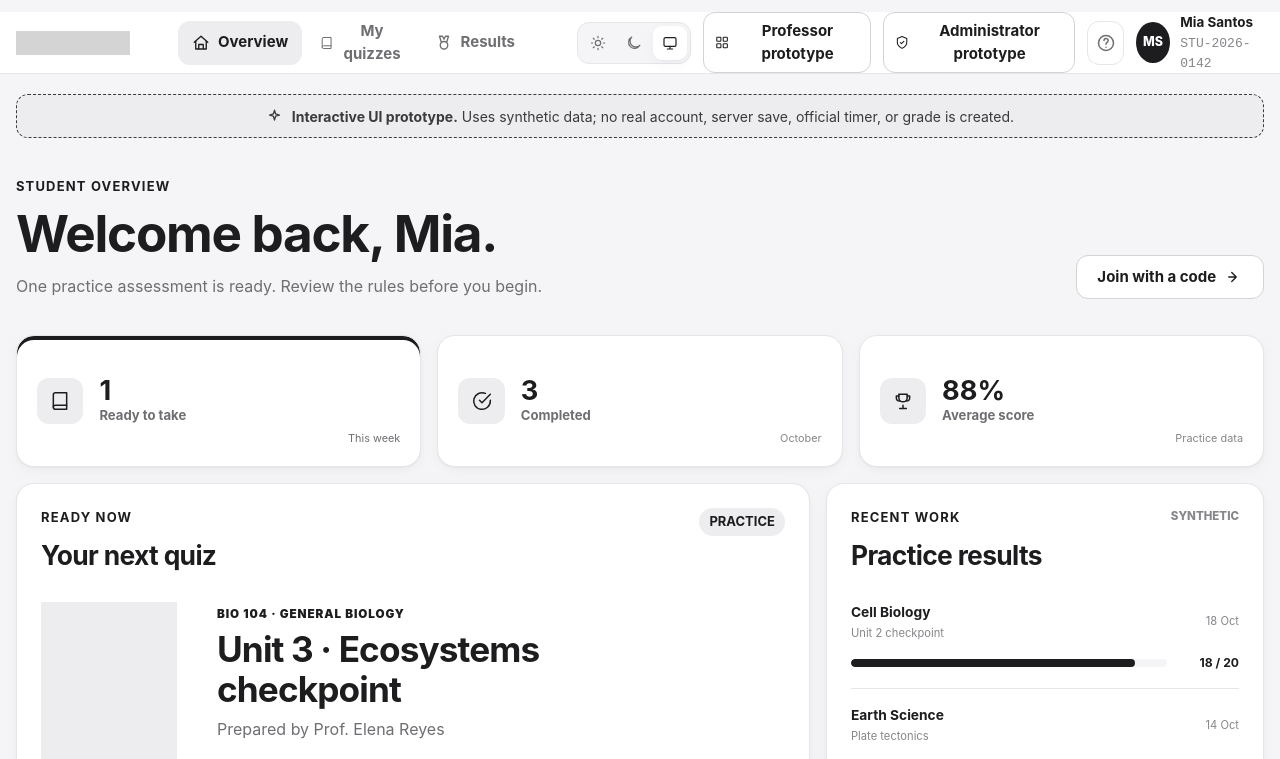
Test: MARKADO student prototype › rejects an unknown code and accepts the documented prototype code
Step 1. Click the button "Join with a code" → [1170, 277], box [1076,255,1264,299]
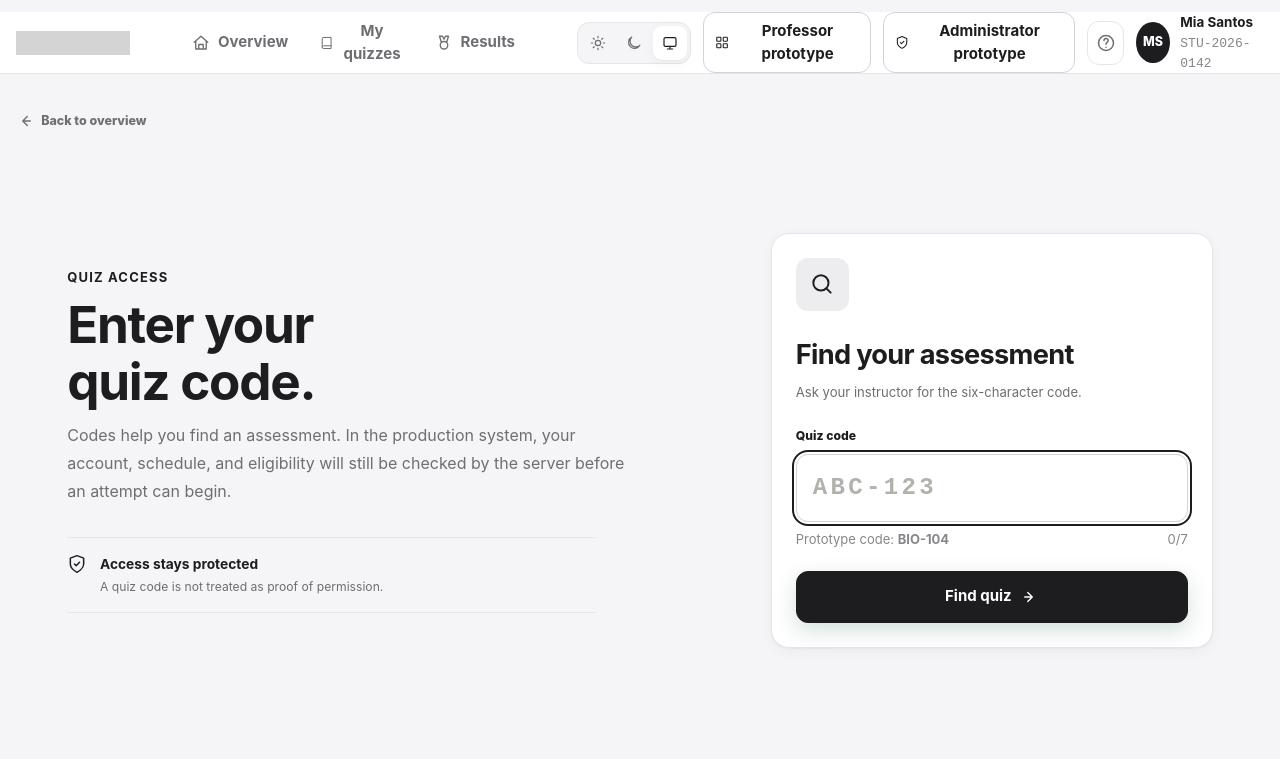
Step 2. Type "WRONG" into the field labelled "Quiz code" → [992, 488], box [796,454,1188,522]
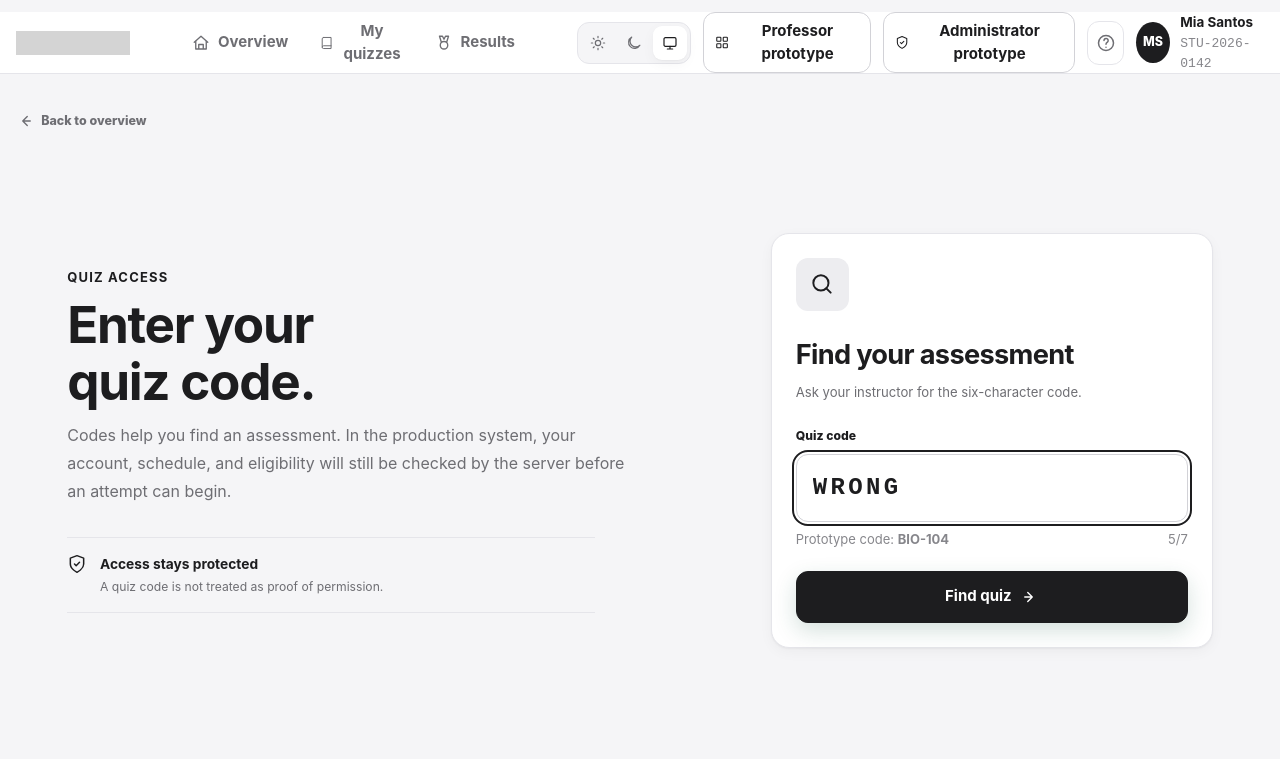
Step 3. Click the button "Find quiz" → [992, 597], box [796,571,1188,623]
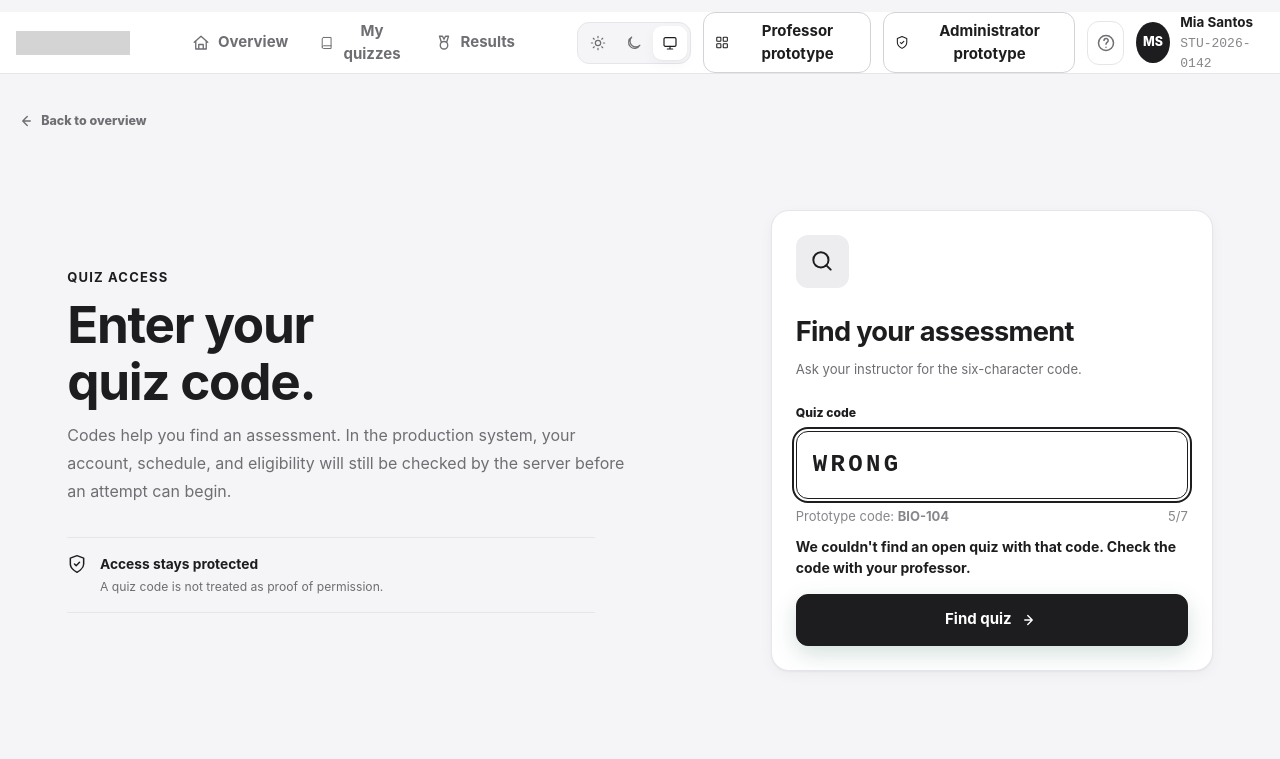
Now the message shows "Check the code with your professor", box [796,538,1176,576]
Step 4. Replace the text in the field labelled "Quiz code" with "BIO-104" → [992, 464], box [796,430,1188,498]
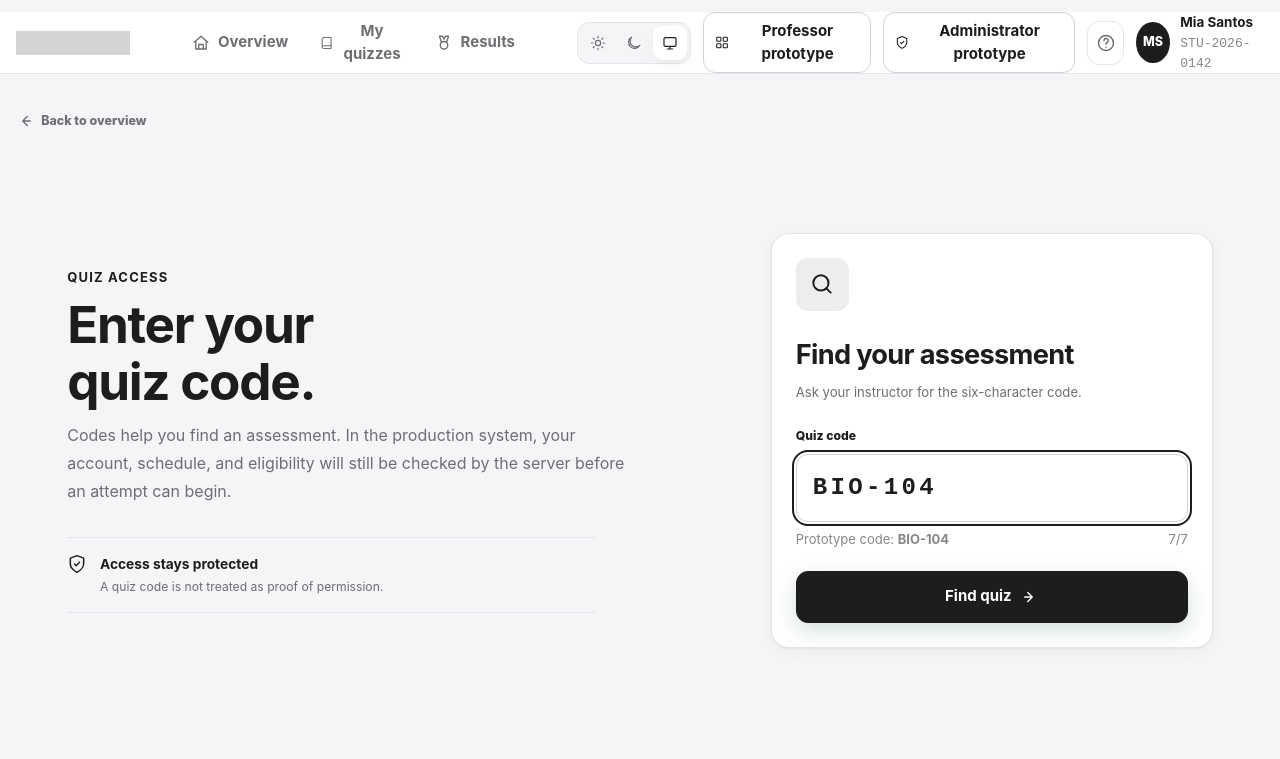
Step 5. Click the button "Find quiz" → [992, 597], box [796,571,1188,623]
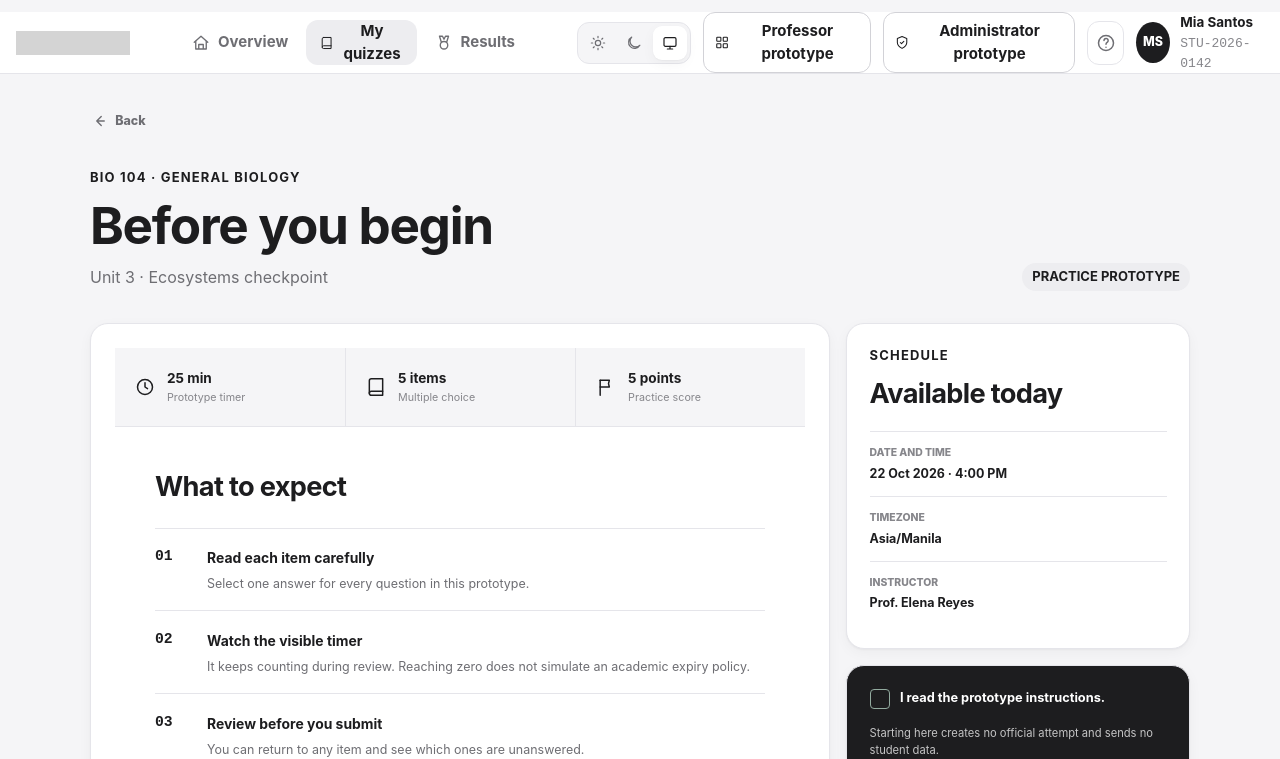
Now the heading "Before you begin" is shown, box [90,197,493,254]
